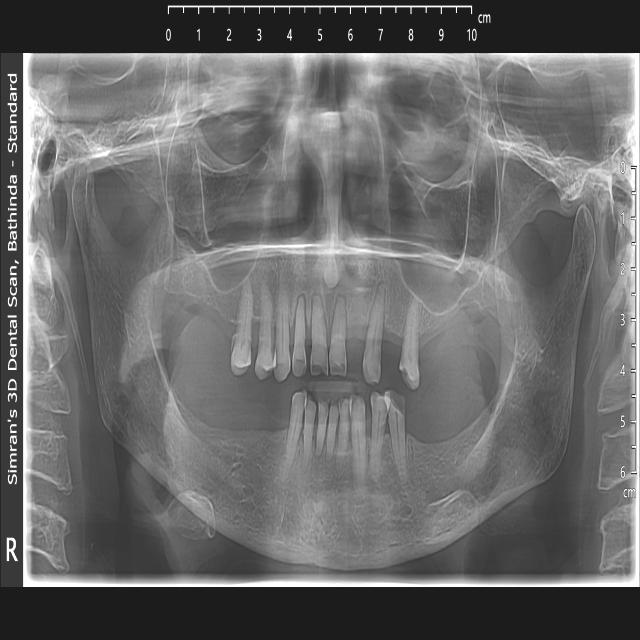Caries: (253, 323, 278, 383), (366, 338, 383, 380), (388, 388, 406, 413)
Filling: (372, 394, 390, 421)
Missing teeth: (195, 396, 274, 467), (410, 410, 475, 467), (425, 310, 471, 366), (187, 288, 232, 333), (383, 318, 400, 366), (348, 315, 362, 369)
Periapical lesion: (256, 268, 278, 323), (369, 277, 387, 315), (331, 282, 349, 320), (293, 281, 309, 321), (310, 285, 325, 321)
